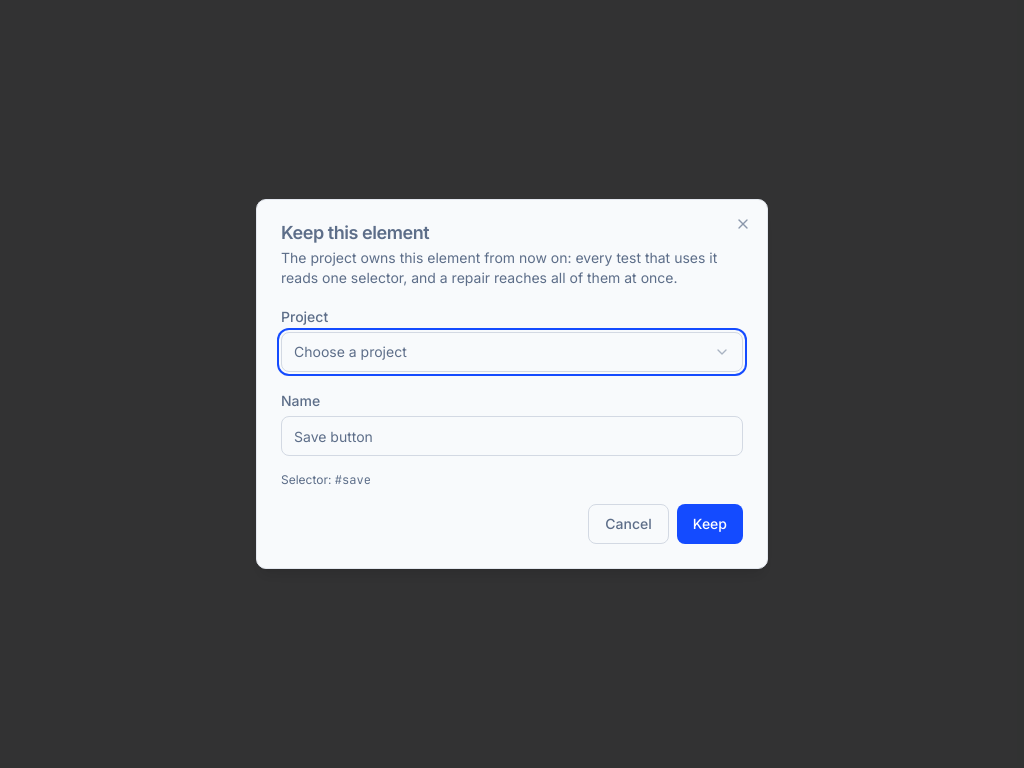
Test: KeepElementModal › insists on a project, because a selector is a fact about one application
Click the button "Keep": click(710, 524) [677,504,743,544]
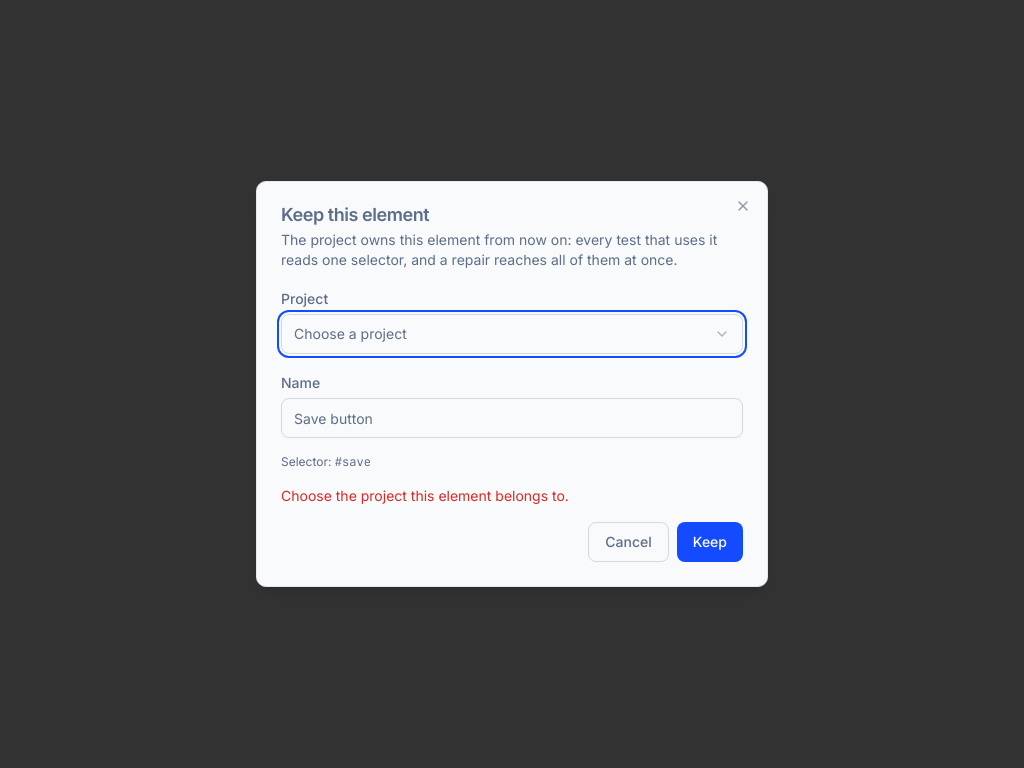
Result: the text "Choose the project this element belongs to." is shown at [281,487,569,504]
